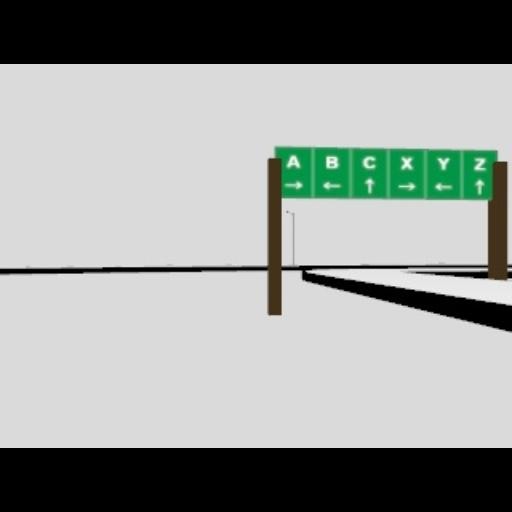A: (285, 154, 301, 168)
B: (324, 156, 338, 168)
C: (362, 155, 376, 169)
Left: (322, 181, 340, 189), (434, 182, 452, 190)
Right: (396, 181, 416, 191), (284, 181, 302, 189)
Straight: (474, 179, 484, 195), (364, 178, 374, 194)
X: (400, 155, 412, 169)
Y: (435, 155, 449, 169)
Z: (472, 156, 486, 170)
